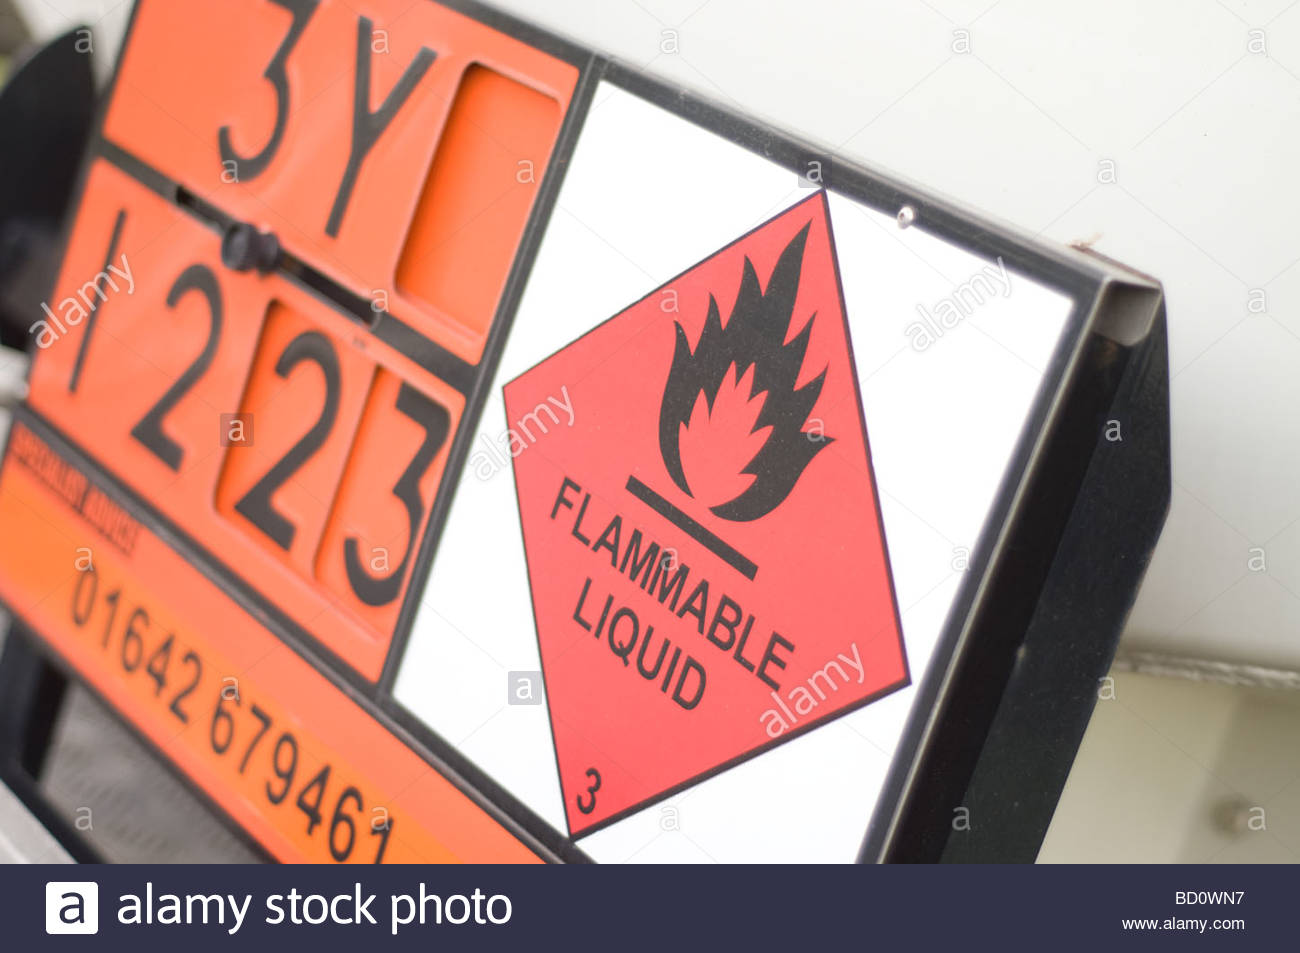FlammableLiquid: (506, 221, 912, 816)
